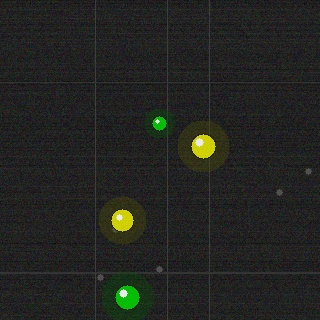green_normal: (113, 283, 141, 311), (150, 114, 168, 132)
yellow_warning: (189, 132, 217, 160), (109, 207, 135, 233)
